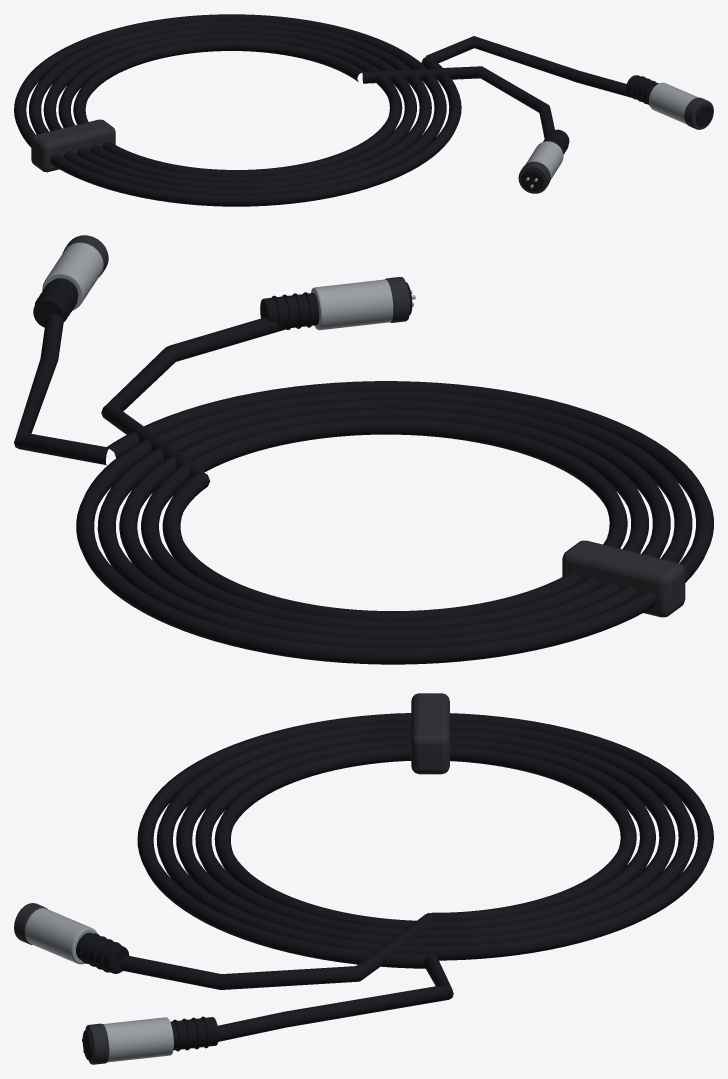
File: 13_audio_cable_coil.glb
3 views of the same model, one above another, from view 1: azimuth 30°, elevation 25°; view 2: azimuth 150°, elevation 25°; view 3: azimuth 270°, elevation 25° (orthographic). The views are drawn at different scales.
Parts seen in each view (by area): view 1: 13_audio_cable_coil__five_coils, 13_audio_cable_coil__lead_b, 13_audio_cable_coil__cable_tie, 13_audio_cable_coil__lead_a, 13_audio_cable_coil__XLR_shell.004, 13_audio_cable_coil__XLR_shell.001, 13_audio_cable_coil__XLR_shell.005, 13_audio_cable_coil__XLR_shell.002, 13_audio_cable_coil__XLR_shell.003, 13_audio_cable_coil__socket_face; view 2: 13_audio_cable_coil__five_coils, 13_audio_cable_coil__cable_tie, 13_audio_cable_coil__lead_a, 13_audio_cable_coil__lead_b, 13_audio_cable_coil__XLR_shell.001, 13_audio_cable_coil__XLR_shell.004, 13_audio_cable_coil__XLR_shell, 13_audio_cable_coil__XLR_shell.003, 13_audio_cable_coil__XLR_shell.002; view 3: 13_audio_cable_coil__five_coils, 13_audio_cable_coil__lead_a, 13_audio_cable_coil__lead_b, 13_audio_cable_coil__cable_tie, 13_audio_cable_coil__XLR_shell.004, 13_audio_cable_coil__XLR_shell.001, 13_audio_cable_coil__XLR_shell, 13_audio_cable_coil__XLR_shell.003, 13_audio_cable_coil__XLR_shell.005.
Boxes of the visible parts, x1,y1,x2,y2 form: 13_audio_cable_coil__five_coils: [14, 14, 461, 206]; 13_audio_cable_coil__lead_b: [426, 36, 636, 98]; 13_audio_cable_coil__cable_tie: [31, 119, 115, 172]; 13_audio_cable_coil__lead_a: [362, 66, 554, 138]; 13_audio_cable_coil__XLR_shell.004: [649, 82, 698, 124]; 13_audio_cable_coil__XLR_shell.001: [526, 141, 563, 179]; 13_audio_cable_coil__XLR_shell.005: [684, 97, 713, 129]; 13_audio_cable_coil__XLR_shell.002: [518, 161, 550, 193]; 13_audio_cable_coil__XLR_shell.003: [626, 75, 655, 102]; 13_audio_cable_coil__socket_face: [521, 170, 543, 191]; 13_audio_cable_coil__five_coils: [76, 381, 713, 664]; 13_audio_cable_coil__cable_tie: [562, 540, 685, 617]; 13_audio_cable_coil__lead_a: [101, 317, 287, 477]; 13_audio_cable_coil__lead_b: [14, 313, 108, 465]; 13_audio_cable_coil__XLR_shell.001: [311, 279, 393, 330]; 13_audio_cable_coil__XLR_shell.004: [42, 242, 103, 310]; 13_audio_cable_coil__XLR_shell: [260, 293, 319, 327]; 13_audio_cable_coil__XLR_shell.003: [33, 278, 78, 327]; 13_audio_cable_coil__XLR_shell.002: [385, 277, 410, 322]; 13_audio_cable_coil__five_coils: [137, 713, 713, 968]; 13_audio_cable_coil__lead_a: [121, 913, 434, 989]; 13_audio_cable_coil__lead_b: [217, 954, 453, 1041]; 13_audio_cable_coil__cable_tie: [411, 693, 449, 774]; 13_audio_cable_coil__XLR_shell.004: [103, 1017, 173, 1062]; 13_audio_cable_coil__XLR_shell.001: [25, 908, 97, 964]; 13_audio_cable_coil__XLR_shell: [76, 932, 129, 973]; 13_audio_cable_coil__XLR_shell.003: [170, 1017, 218, 1050]; 13_audio_cable_coil__XLR_shell.005: [85, 1023, 109, 1064].
Bounding box in the file's own units: 0.5123 × 0.03 × 0.4347.
Materials: 4 (4 with a texture image).
